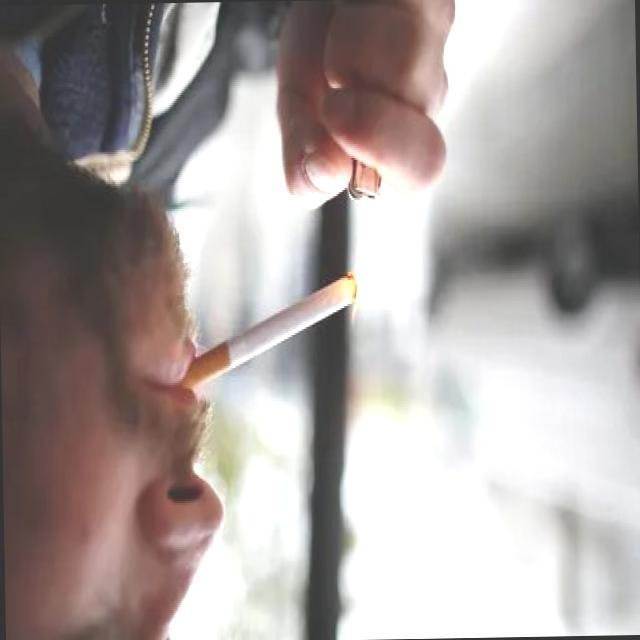cigarette: (178, 269, 364, 396)
